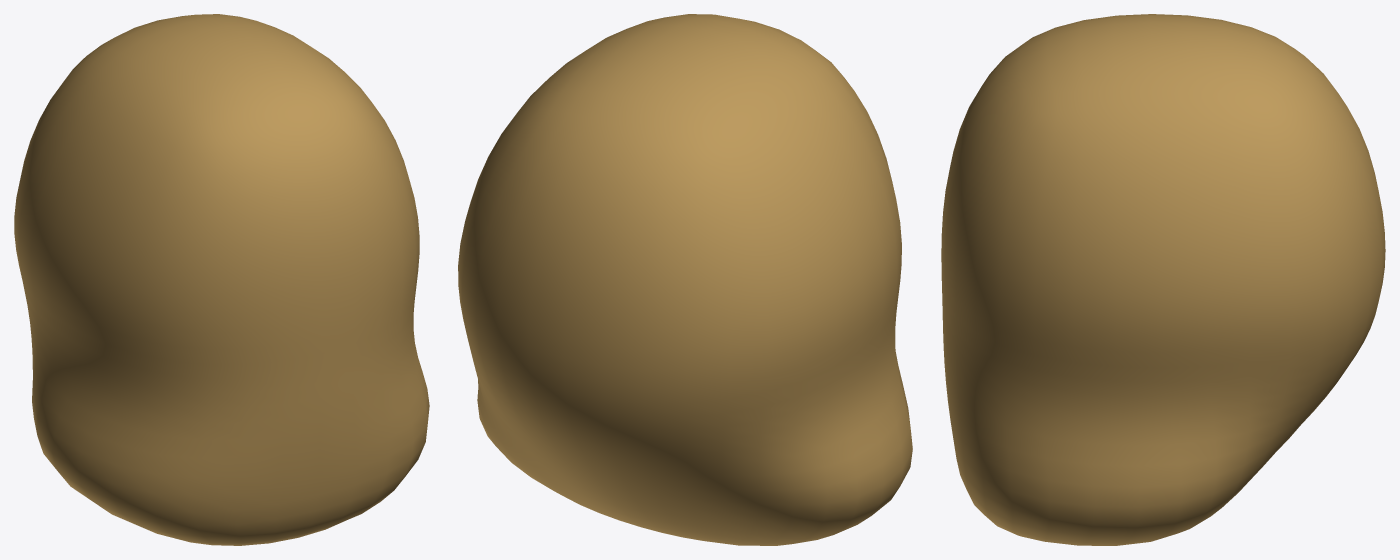
File: head_head_005.gltf
3 renders of one model, left to right at view 1: azimuth 30°, elevation 25°; view 2: azimuth 150°, elevation 25°; view 3: azimuth 270°, elevation 25°, orthographic. The views are drawn at different scales.
Parts seen in each view (by area): view 1: head.005; view 2: head.005; view 3: head.005.
Part boxes in pixels (<box>): head.005: <box>14,14,429,545</box>; head.005: <box>458,14,912,545</box>; head.005: <box>941,14,1385,545</box>.
Bounding box in the file's own units: 0.1527 × 0.1895 × 0.1593.
